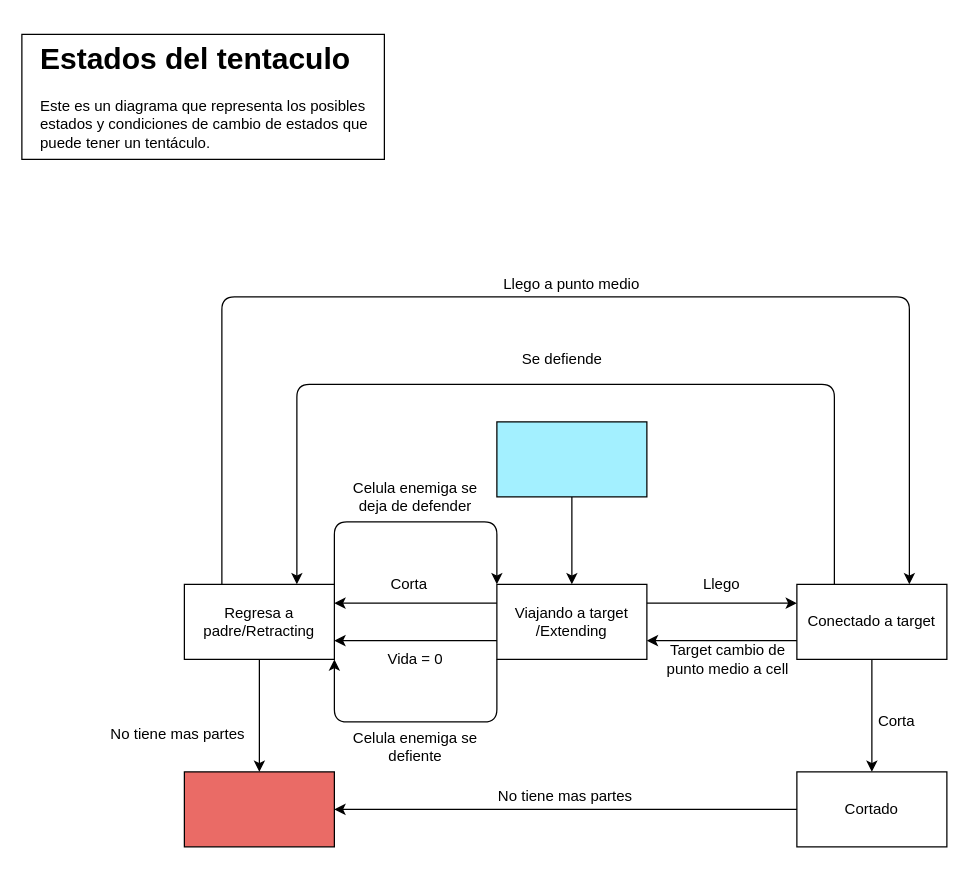
The diagram is 969 pixels wide and 869 high, and some of its shapes have lost their labels. Here are the shapes that lost their labels. From the top down, the centre of each, then its label:
At [571,459]: "Nace".
At [258,809]: "Muere".
